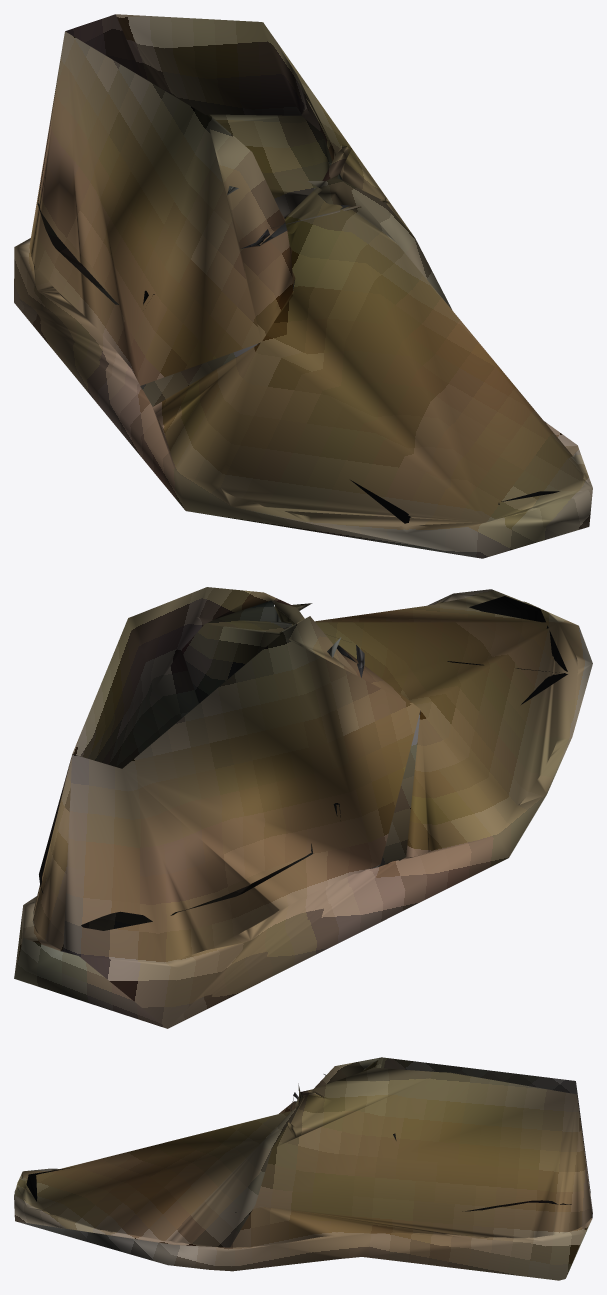
File: Timberland_Mens_Earthkeepers_Stormbuck_Chukka-low.glb
The picture shows the model from 3 angles, top to bottom: view 1: azimuth 30°, elevation 25°; view 2: azimuth 150°, elevation 25°; view 3: azimuth 270°, elevation 25°; orthographic projection. The views are drawn at different scales.
Visible parts, largest first — view 1: Timberland_Mens_Earthkeepers_Stormbuck_Chukka; view 2: Timberland_Mens_Earthkeepers_Stormbuck_Chukka; view 3: Timberland_Mens_Earthkeepers_Stormbuck_Chukka.
Part boxes in pixels (x1=…): Timberland_Mens_Earthkeepers_Stormbuck_Chukka: x1=14, y1=14, x2=592, y2=558; Timberland_Mens_Earthkeepers_Stormbuck_Chukka: x1=14, y1=587, x2=592, y2=1028; Timberland_Mens_Earthkeepers_Stormbuck_Chukka: x1=14, y1=1057, x2=592, y2=1280.
Size of the model in its own units: 0.1117 by 0.1135 by 0.2963.
Materials: 1 (1 with a texture image).
